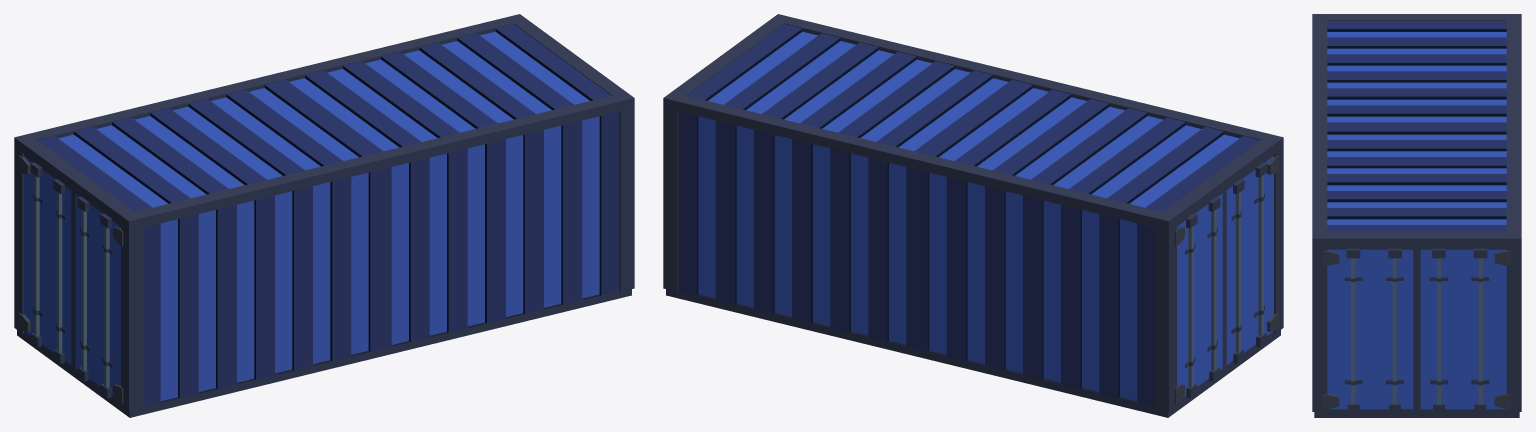
Rendered from Prop_Shippin05.fbx.
3 views of the same model, side by side, from view 1: azimuth 30°, elevation 25°; view 2: azimuth 150°, elevation 25°; view 3: azimuth 270°, elevation 25° (orthographic). The views are drawn at different scales.
Visible parts, largest first — view 1: Cube.874; view 2: Cube.874; view 3: Cube.874.
Part boxes in pixels (x1=…): Cube.874: x1=14, y1=14, x2=634, y2=417; Cube.874: x1=663, y1=14, x2=1283, y2=417; Cube.874: x1=1312, y1=14, x2=1521, y2=417.
Bounding box in the file's own units: 910 × 337 × 355.
